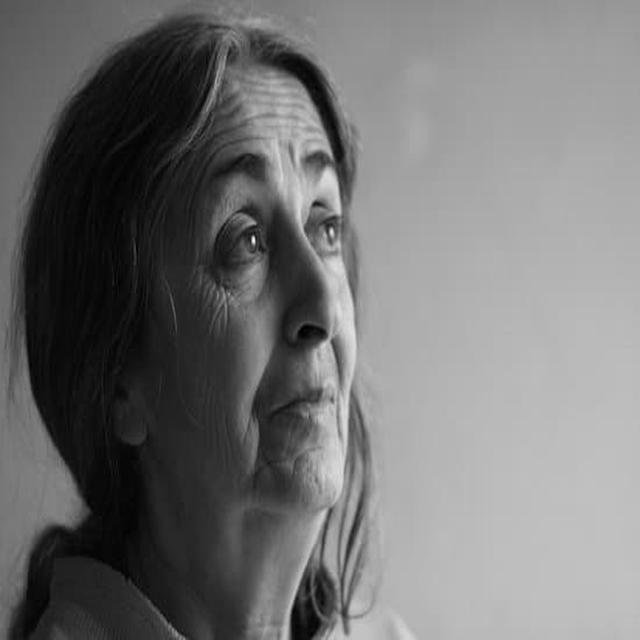Sadness: (191, 71, 358, 514)
